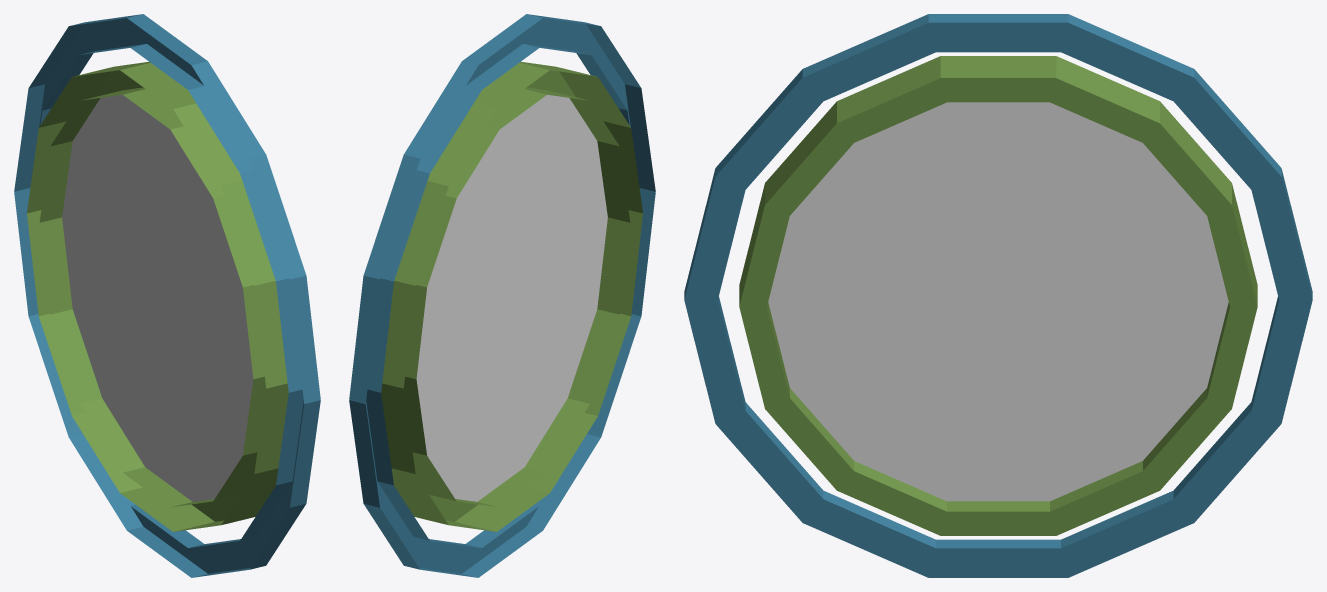
Rendered from NeonXCountCircle.fbx.
3 views of the same model, side by side, from view 1: azimuth 30°, elevation 25°; view 2: azimuth 150°, elevation 25°; view 3: azimuth 270°, elevation 25° (orthographic). The views are drawn at different scales.
Visible parts, largest first — view 1: Circle.001, Circle, Circle.002; view 2: Circle.001, Circle, Circle.002; view 3: Circle.001, Circle.002, Circle.
Part boxes in pixels (x1,y1,x2,y2): Circle.001: (62, 94, 253, 501); Circle: (27, 61, 288, 531); Circle.002: (14, 14, 320, 577); Circle.001: (416, 94, 607, 501); Circle: (381, 61, 642, 531); Circle.002: (349, 14, 655, 577); Circle.001: (768, 102, 1228, 501); Circle.002: (684, 14, 1312, 577); Circle: (739, 56, 1257, 535).
Size of the model in its own units: 20.23 by 236 by 242.
1 material, 1 textured.
